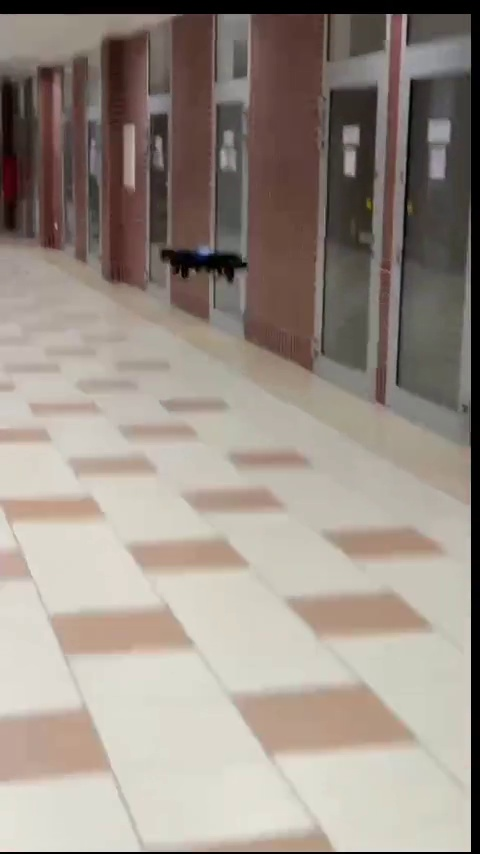drone: (161, 243, 249, 286)
